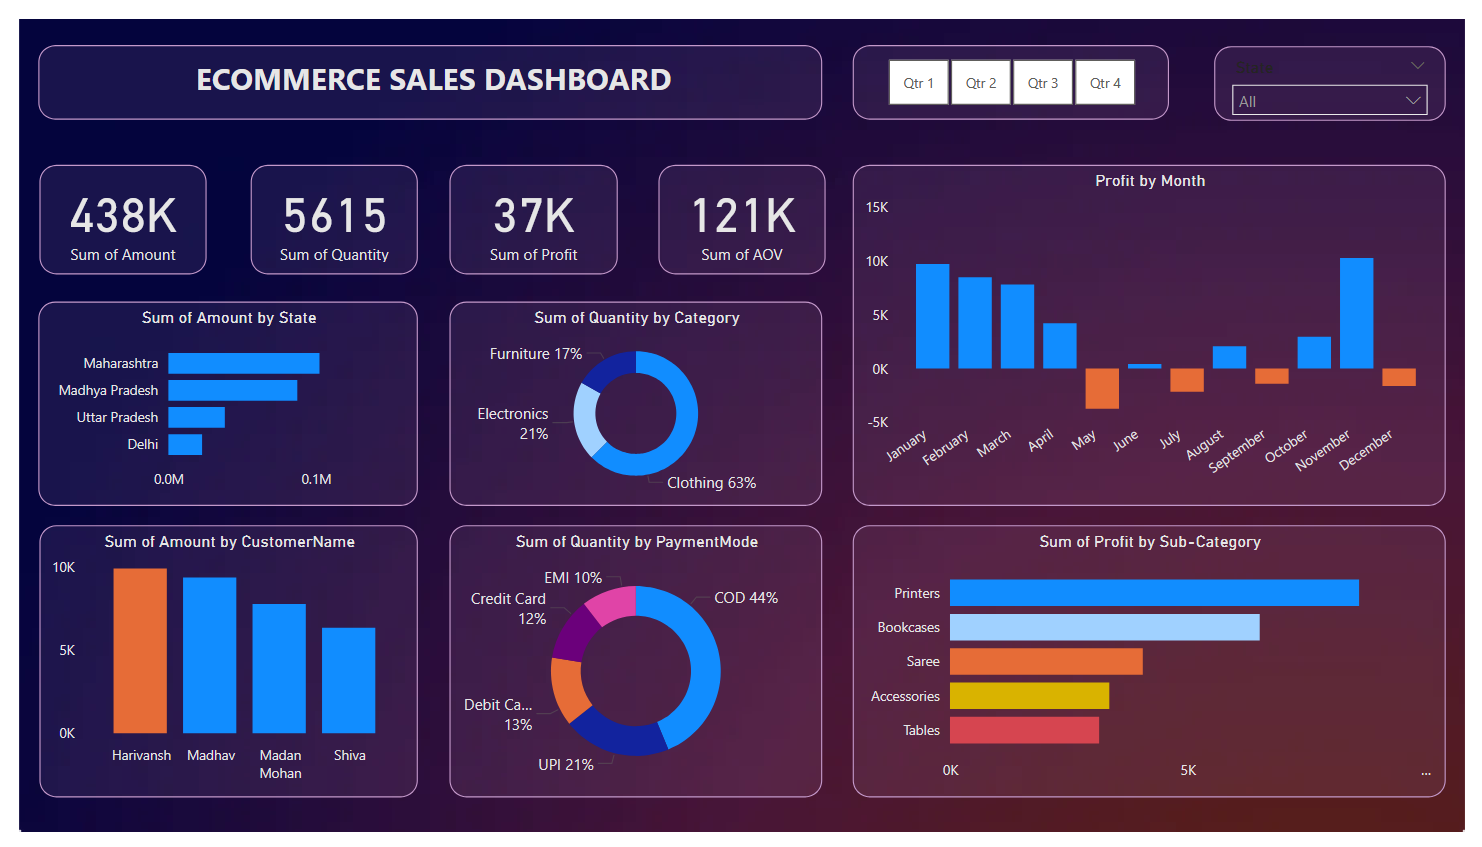

The page's visual inventory and layout, read from the dashboard file:
{"tool":"powerbi","page":{"name":"Page 1","canvas":[1280,720],"ordinal":0},"visuals":[{"type":"textbox","box":[16.9,22.9,693.7,66.4],"z":0},{"type":"columnChart","title":" Profit by Month","fields":{"Category":["Orders.Order Date.Variation.Date Hierarchy.Month"],"Y":["Details.Profit"]},"box":[738.3,129.1,524.8,301.6],"z":1000},{"type":"barChart","fields":{"Category":["Details.Sub-Category"],"Y":["Details.Profit"]},"box":[738.3,447.6,524.8,241.3],"z":2000},{"type":"donutChart","fields":{"Category":["Details.Category"],"Y":["Details.Quantity"]},"box":[381.2,249.7,329.4,181],"z":3000},{"type":"donutChart","fields":{"Y":["Details.Quantity"],"Category":["Details.PaymentMode"]},"box":[381.2,447.6,329.4,241.3],"z":4000},{"type":"card","fields":{"Values":["Details.Amount"]},"box":[18.1,129.1,148.4,96.5],"z":5000},{"type":"card","fields":{"Values":["Details.Quantity"]},"box":[205.1,129.1,148.4,96.5],"z":6000},{"type":"card","fields":{"Values":["Details.Profit"]},"box":[381.2,129.1,148.4,96.5],"z":7000},{"type":"card","fields":{"Values":["Details.AOV"]},"box":[565.8,129.1,148.4,96.5],"z":8000},{"type":"barChart","fields":{"Category":["Orders.State"],"Y":["Details.Amount"]},"box":[16.9,249.7,336.6,181],"z":9000},{"type":"columnChart","fields":{"Category":["Orders.CustomerName"],"Y":["Details.Amount"]},"box":[18.1,447.6,335.4,241.3],"z":10000},{"type":"slicer","fields":{"Values":["Orders.Order Date.Variation.Date Hierarchy.Quarter"]},"box":[738.3,22.9,279.9,66.4],"z":11000},{"type":"slicer","fields":{"Values":["Orders.State"]},"box":[1058,24.1,205.1,66.4],"z":12000}]}

Visuals, with their boxes in screenshot pixels (x1, y1, x2, y2), scaled from the page's 1280x720 canvas onto the 1482x847 screenshot:
textbox: select_region(20, 27, 823, 105)
" Profit by Month" columnChart: select_region(855, 152, 1462, 507)
barChart - Details.Sub-Category x Details.Profit: select_region(855, 527, 1462, 810)
donutChart - Details.Category x Details.Quantity: select_region(441, 294, 823, 507)
donutChart - Details.Quantity x Details.PaymentMode: select_region(441, 527, 823, 810)
card - Details.Amount: select_region(21, 152, 193, 265)
card - Details.Quantity: select_region(237, 152, 409, 265)
card - Details.Profit: select_region(441, 152, 613, 265)
card - Details.AOV: select_region(655, 152, 827, 265)
barChart - Orders.State x Details.Amount: select_region(20, 294, 409, 507)
columnChart - Orders.CustomerName x Details.Amount: select_region(21, 527, 409, 810)
slicer - Orders.Order Date.Variation.Date Hierarchy.Quarter: select_region(855, 27, 1179, 105)
slicer - Orders.State: select_region(1225, 28, 1462, 106)
